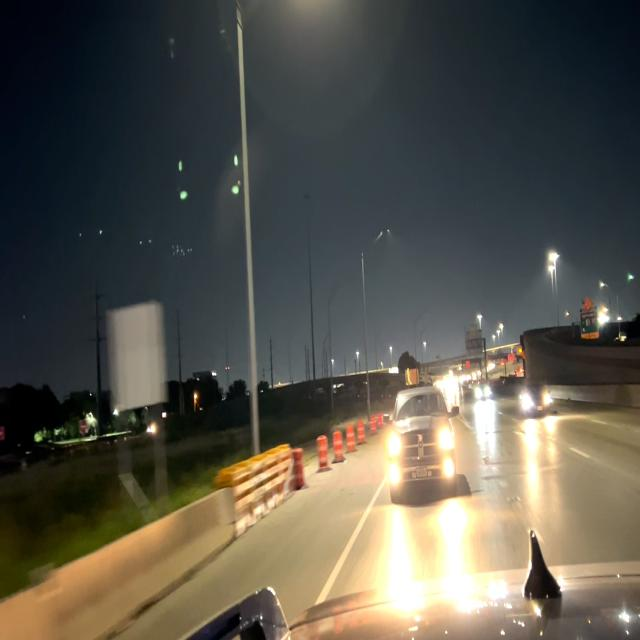back-of-sign: (109, 301, 166, 412)
